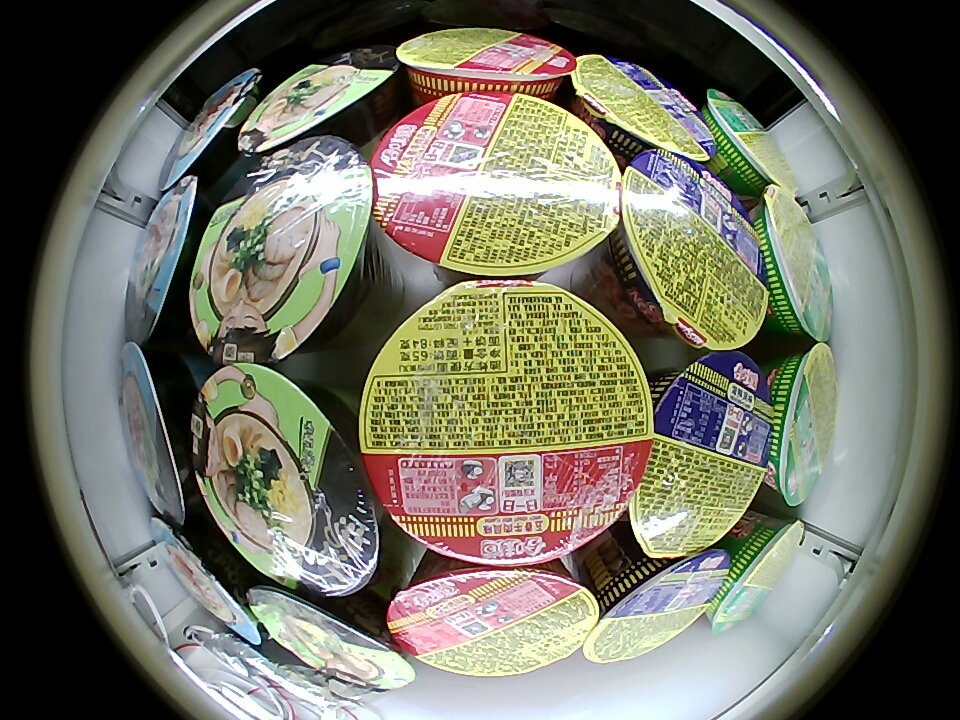heweidao: (619, 149, 770, 352), (630, 353, 773, 560), (584, 549, 729, 664), (571, 53, 714, 163)
heweidao2: (754, 184, 836, 342), (762, 341, 839, 508), (709, 514, 805, 634), (704, 89, 798, 196)
heweidao3: (359, 277, 653, 567), (369, 90, 620, 278), (386, 560, 598, 678), (397, 27, 575, 100)
tangdaren: (189, 365, 385, 595), (186, 137, 376, 367), (247, 583, 415, 695), (238, 48, 402, 159)
tangdaren3: (149, 514, 264, 646), (117, 345, 201, 525), (125, 176, 210, 345), (157, 67, 265, 194)
